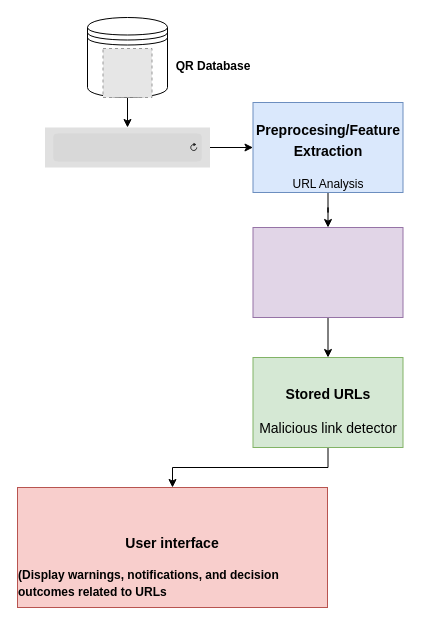
This 421x625 diagram has some shape labels left out. Grey dashed boxes stand in for pictures. The shapes that lost their labels are listed below. From the top down, each one's centre as x and y in pixels, then its label:
pixel 127 147: Malicious URL
pixel 327 272: Machine learning Models
